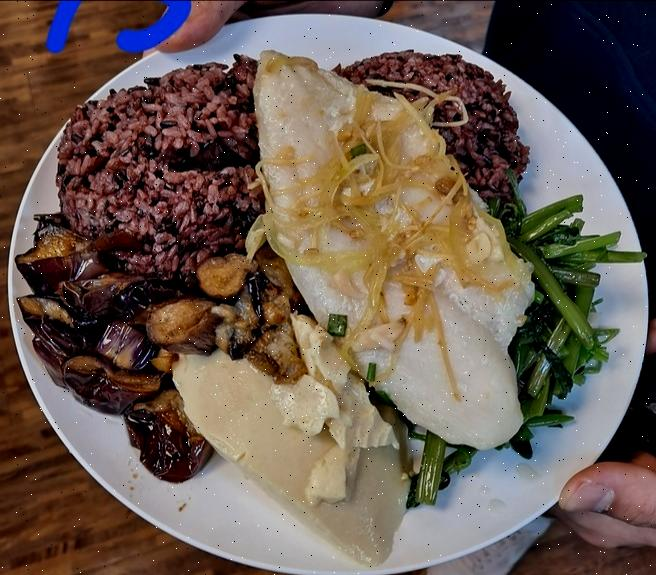big fried chicken leg: (9, 7, 656, 572)
braised fish: (58, 49, 262, 273), (332, 52, 528, 198)
braised fish fillet: (17, 214, 304, 490), (409, 196, 612, 504), (179, 319, 411, 565)
braised pork ribs: (250, 44, 538, 446)
